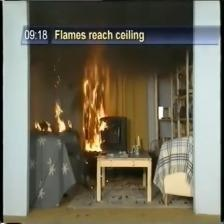fire: (62, 61, 110, 157)
